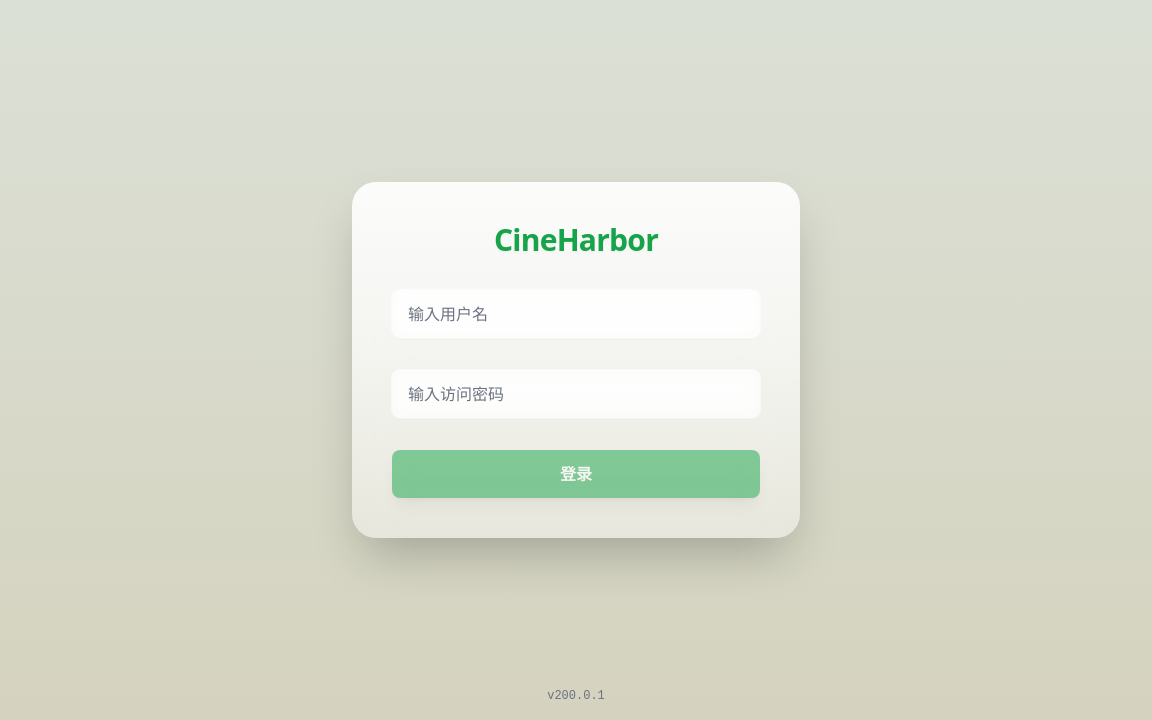
Test case: LoginPage desktop profile sync branches › surfaces desktop local login errors instead of collapsing them into a network error
Type "admin" into the field with placeholder "输入用户名" at [576, 314], box [392,290,760,338]
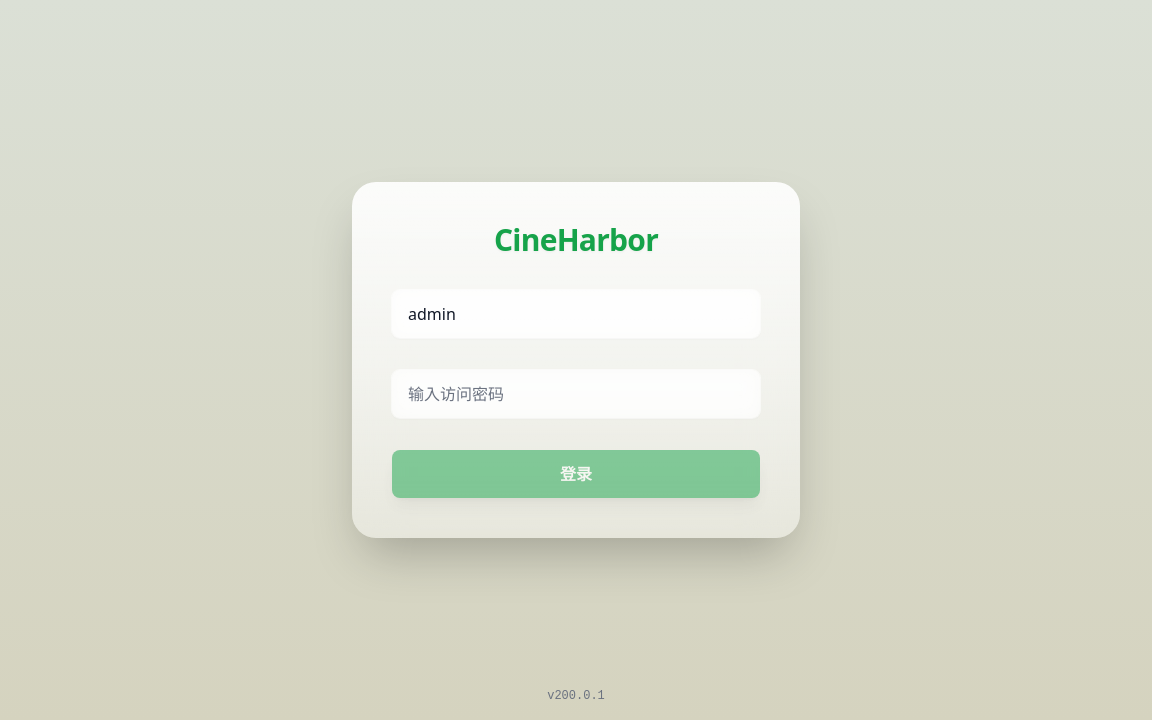
Type "secret" into the password field with placeholder "输入访问密码" at [576, 394], box [392,370,760,418]
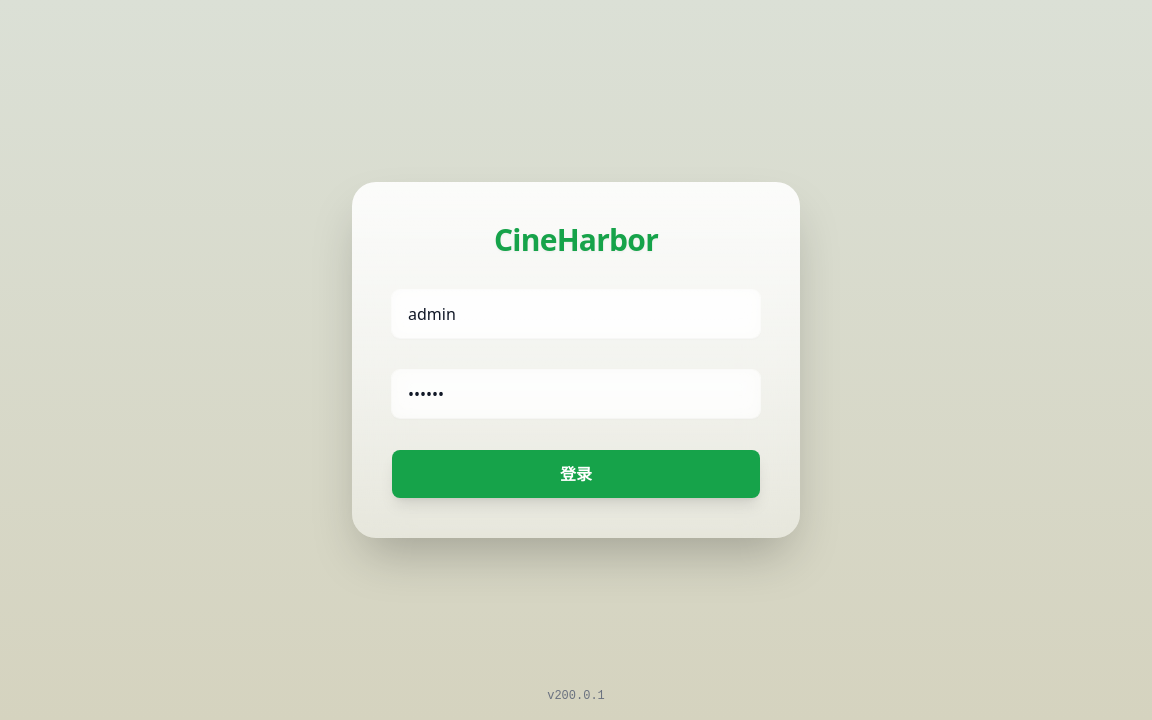
Click the button "登录" at [576, 474], box [392,450,760,498]
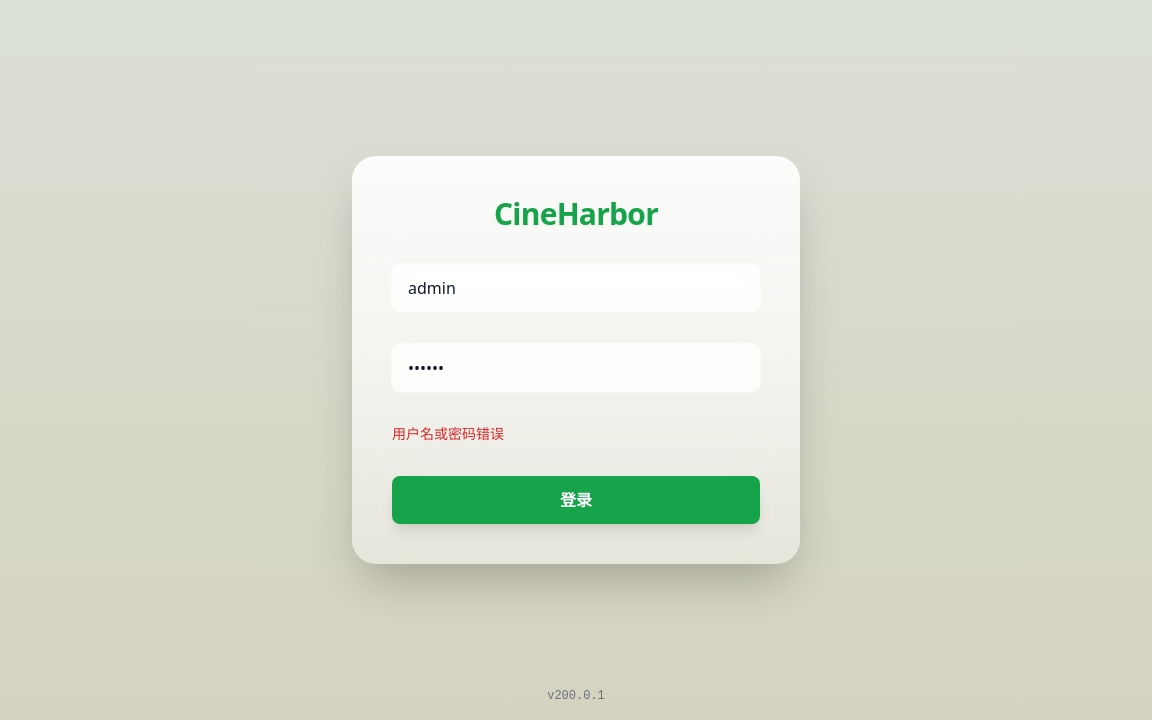
Expected: the text "用户名或密码错误" is shown, [392,424,504,443]
